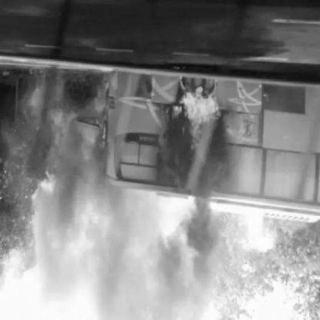Fire: (88, 112, 108, 142)
Smoke: (48, 185, 160, 308), (181, 200, 217, 291)
